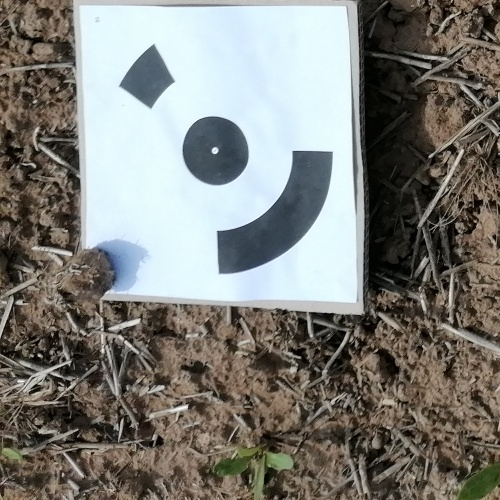beet: (214, 447, 295, 500), (456, 462, 500, 500)
